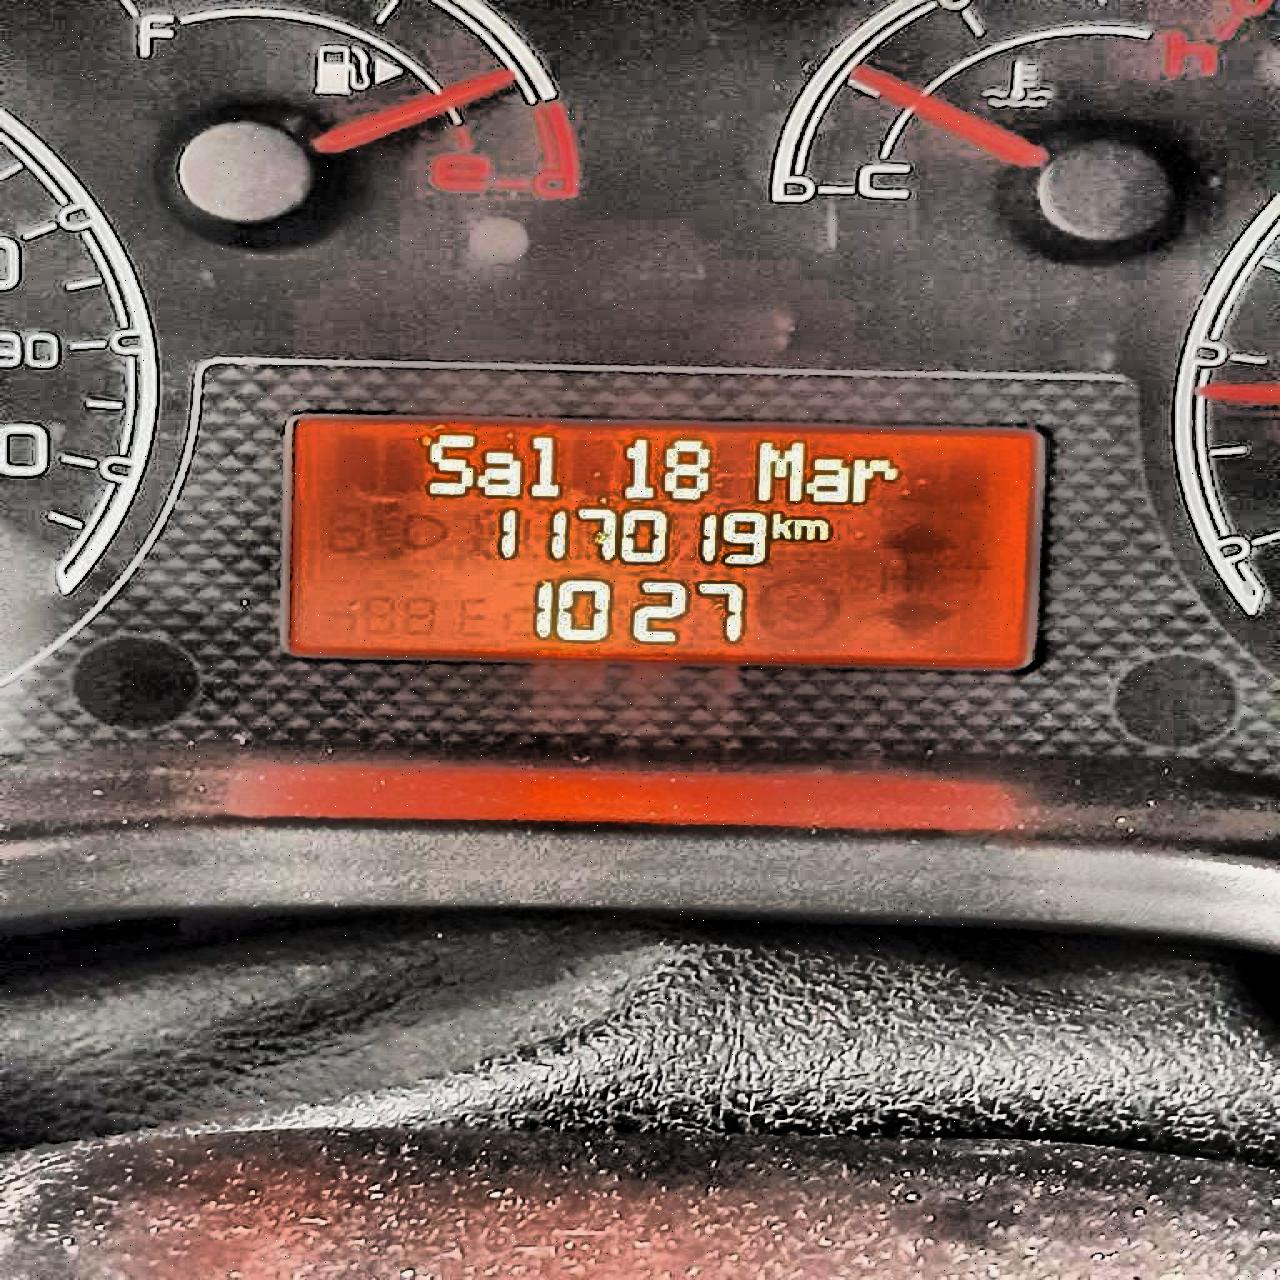0: (556, 577, 612, 644), (618, 506, 667, 564)
1: (624, 435, 655, 501), (493, 504, 518, 561), (545, 505, 570, 560), (533, 576, 553, 640), (696, 509, 719, 565)
2: (631, 577, 687, 645)
7: (695, 579, 745, 642), (573, 505, 617, 560)
8: (663, 436, 710, 502)
9: (722, 508, 765, 565)
X: (425, 433, 475, 497), (754, 437, 802, 503), (475, 447, 523, 497), (852, 454, 900, 504), (526, 433, 564, 497), (803, 455, 850, 504), (791, 515, 830, 540), (770, 508, 791, 538)
odometer: (278, 399, 1060, 676)
